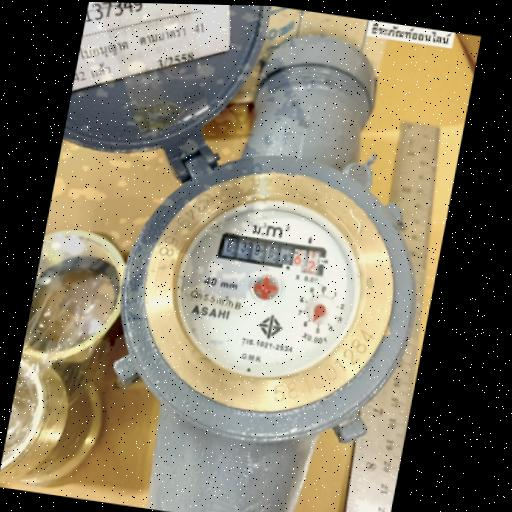2: (305, 251, 320, 274)
3: (237, 240, 251, 259)
6: (264, 244, 280, 263), (222, 237, 237, 257), (292, 248, 306, 267)
8: (279, 246, 292, 265)
9: (250, 241, 264, 261)
border_water_meter_number: (216, 232, 329, 277)
